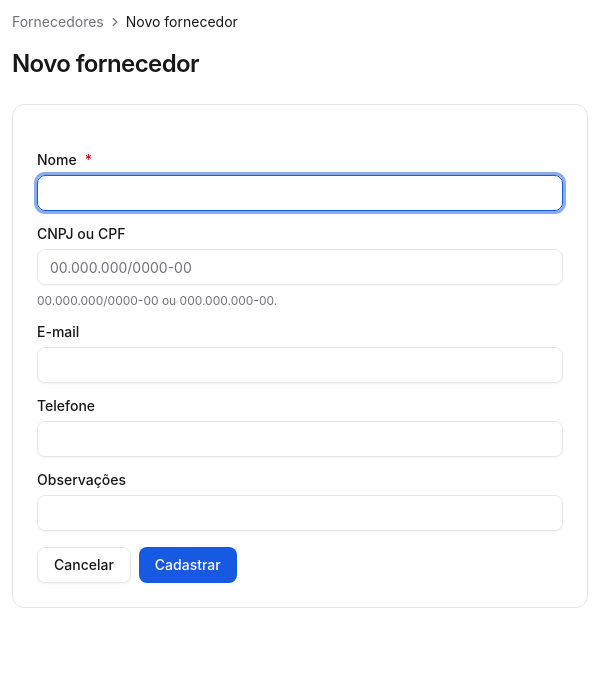
Test: SupplierNewPage › nome já cadastrado (409) mostra mensagem compreensível, sem perder o formulário
Type "Fornecedor Repetido" into the field labelled "Nome *". click: point(300, 193)
box: top-left (37, 175), bottom-right (563, 211)
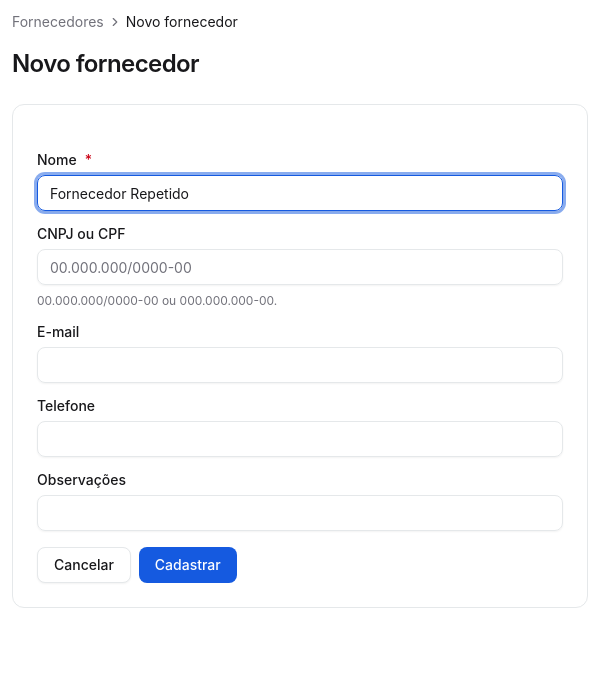
Click the button "Cadastrar". click: point(188, 565)
box: top-left (139, 547), bottom-right (237, 583)
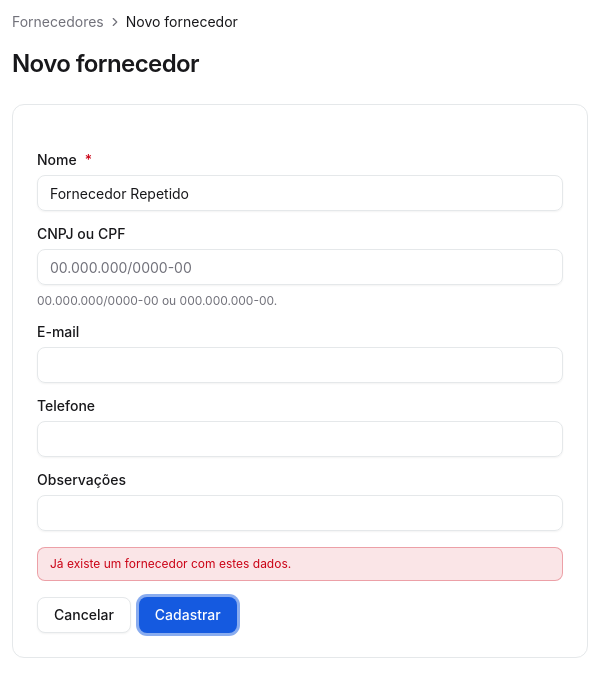
Check: the text "Já existe um fornecedor com estes dados." is shown, box top-left (37, 547), bottom-right (563, 581)
